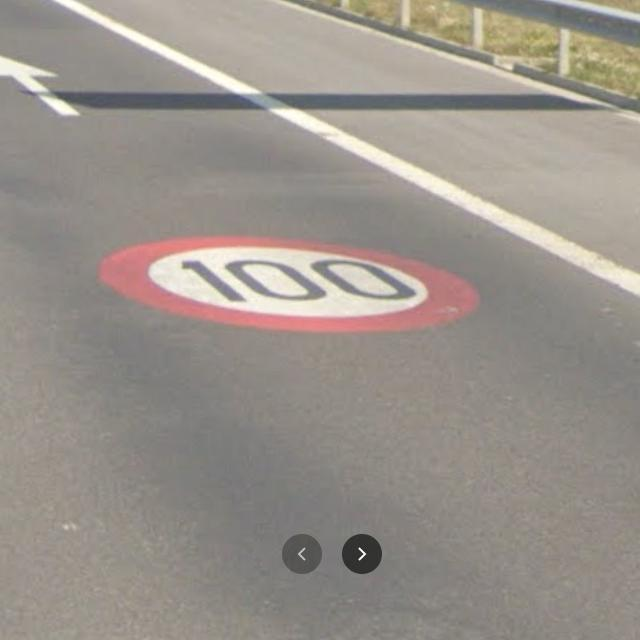forb_speed_over_100: (96, 234, 481, 337)
